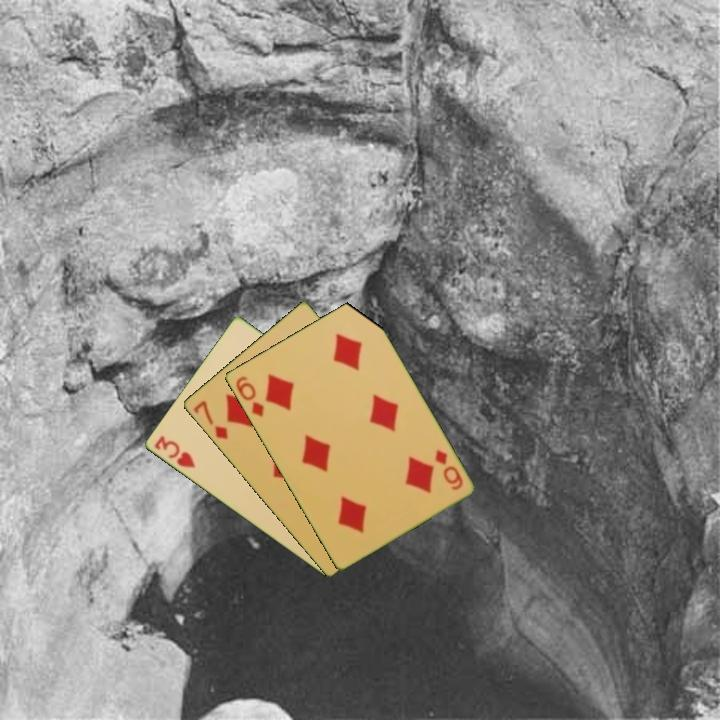3h: (150, 432, 198, 471)
6d: (232, 372, 267, 420), (431, 446, 466, 493)
7d: (189, 397, 231, 442)
